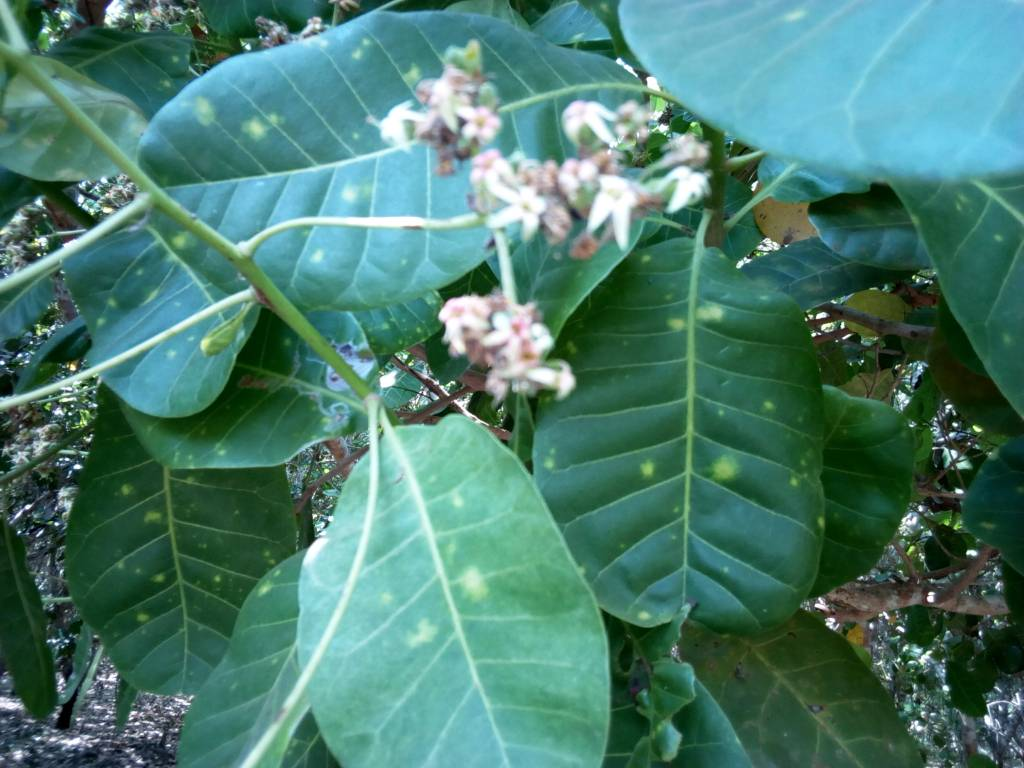Carence minérale: (144, 1, 623, 313), (521, 219, 873, 632), (60, 393, 343, 702)
